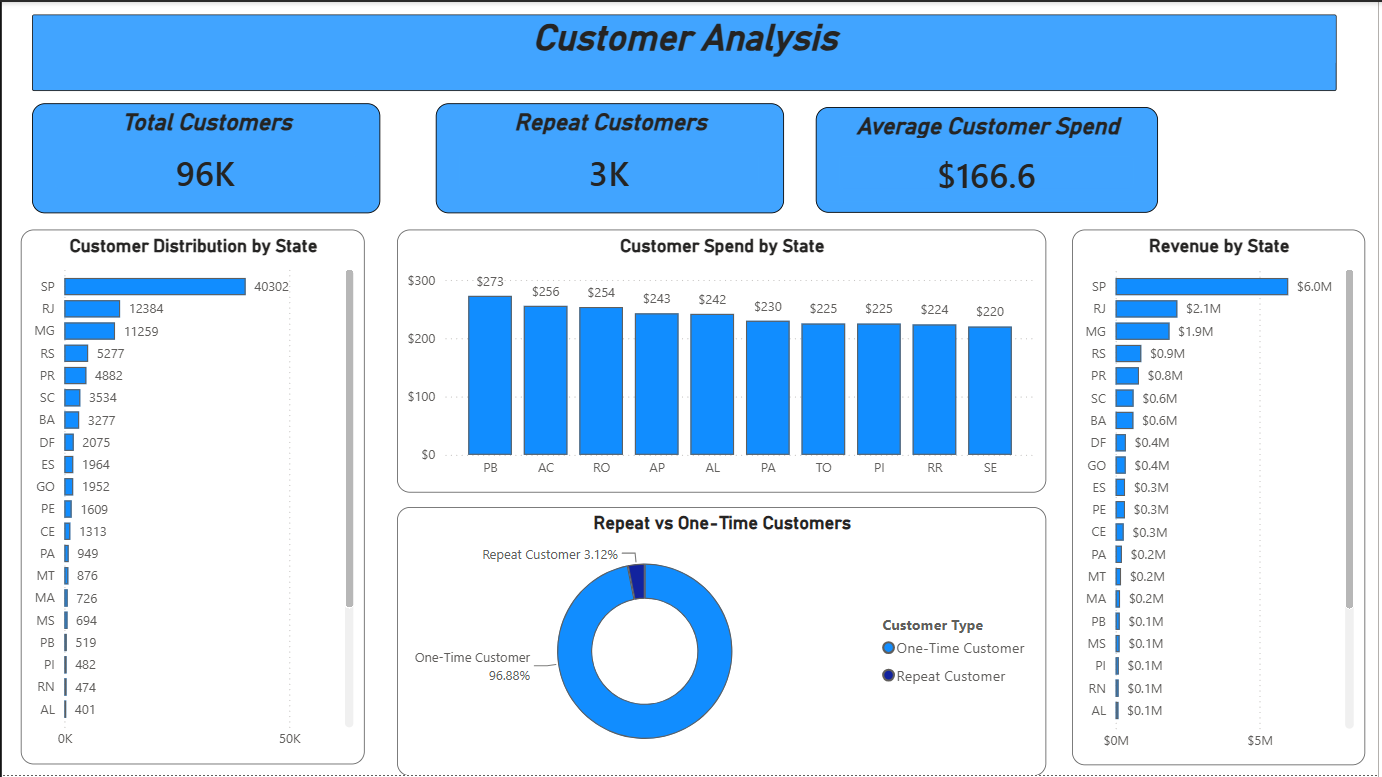

This screenshot's page, from the dashboard's own definition file:
{"tool":"powerbi","page":{"name":"Customer Analysis","canvas":[1280,720],"ordinal":1},"visuals":[{"type":"cardVisual","title":"Total Customers","fields":{"Data":["customers.Total Customers"]},"box":[27.5,93.8,323.8,102.5],"z":0},{"type":"cardVisual","title":"Repeat Customers","fields":{"Data":["customers.Repeat Customers"]},"box":[403.8,93.8,323.8,102.5],"z":1000},{"type":"cardVisual","title":"Average Customer Spend","fields":{"Data":["order_payments.Average Customer Spend"]},"box":[757.5,97.5,318.6,98.6],"z":2000},{"type":"clusteredBarChart","title":"Customer Distribution by State","fields":{"Category":["customers.customer_state"],"Y":["customers.Total Customers"]},"box":[17.5,211.2,320,497.5],"z":3000},{"type":"clusteredBarChart","title":"Revenue by State","fields":{"Category":["customers.customer_state"],"Y":["order_payments.Total Revenue"]},"box":[995,211.2,272.5,498.8],"z":4000},{"type":"donutChart","title":"Repeat vs One-Time Customers","fields":{"Category":["Customer_Type.Customer Type"],"Y":["Customer_Type.Customer Count"]},"box":[367.5,470,603.8,250],"z":5000},{"type":"clusteredColumnChart","title":"Customer Spend by State","fields":{"Category":["customers.customer_state"],"Y":["order_payments.Average Customer Spend"]},"box":[367.5,211.2,603.8,245],"z":6000},{"type":"shape","title":"Customer Analysis","box":[27.5,11.2,1213.8,71.2],"z":6001}]}

Visuals, with their boxes in screenshot pixels (x1, y1, x2, y2), scaled from the page's 1280x720 canvas onto the 1382x777 screenshot:
"Total Customers" cardVisual: [x1=30, y1=101, x2=379, y2=212]
"Repeat Customers" cardVisual: [x1=436, y1=101, x2=786, y2=212]
"Average Customer Spend" cardVisual: [x1=818, y1=105, x2=1162, y2=212]
"Customer Distribution by State" clusteredBarChart: [x1=19, y1=228, x2=364, y2=765]
"Revenue by State" clusteredBarChart: [x1=1074, y1=228, x2=1369, y2=766]
"Repeat vs One-Time Customers" donutChart: [x1=397, y1=507, x2=1049, y2=776]
"Customer Spend by State" clusteredColumnChart: [x1=397, y1=228, x2=1049, y2=492]
"Customer Analysis" shape: [x1=30, y1=12, x2=1340, y2=89]
